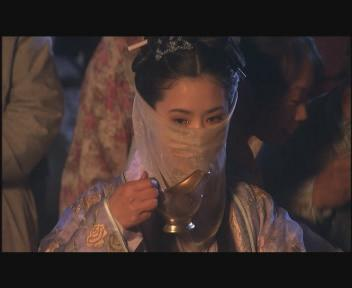OK: (165, 100, 233, 168)
